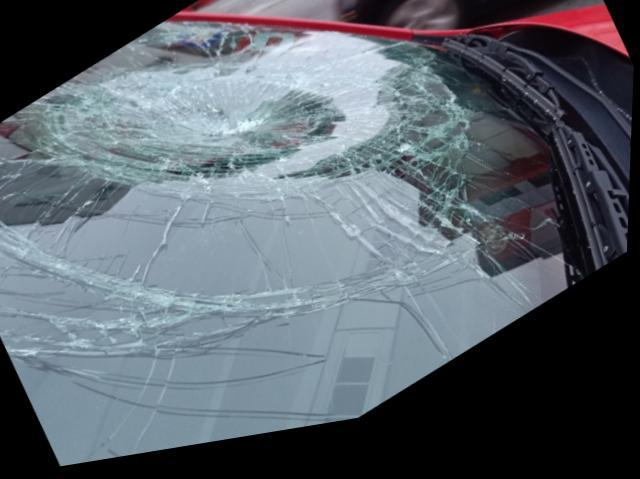glass shatter: (0, 27, 591, 469)
